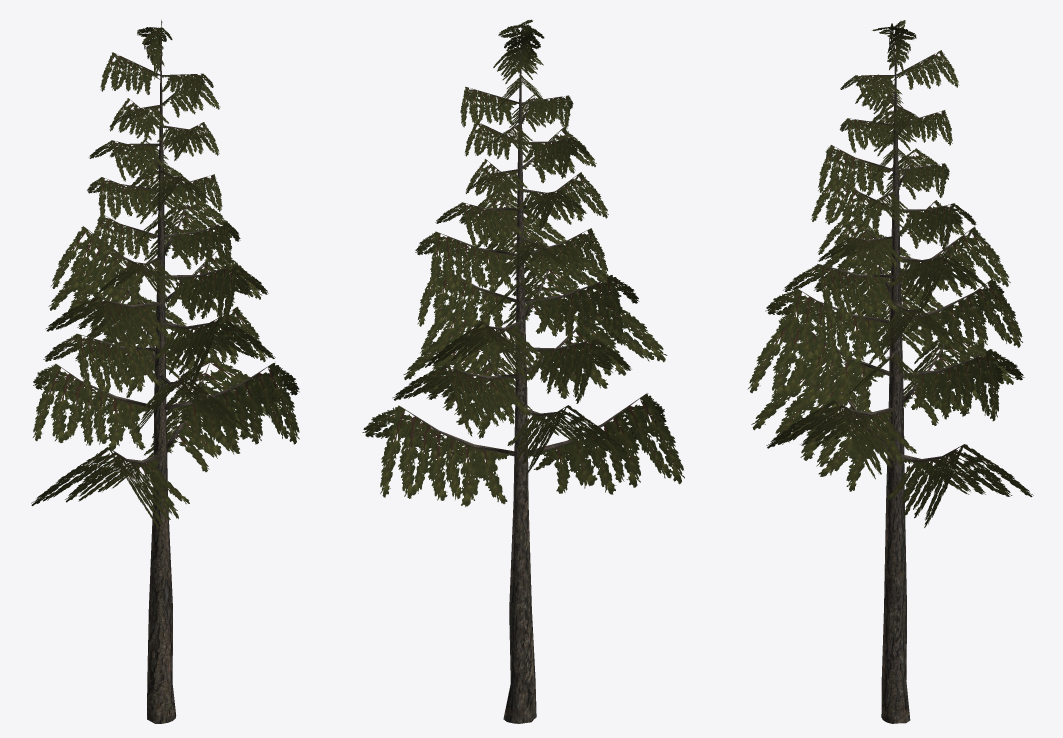
File: conifer1.glb
The picture shows the model from 3 angles, left to right: view 1: azimuth 30°, elevation 25°; view 2: azimuth 150°, elevation 25°; view 3: azimuth 270°, elevation 25°; orthographic projection.
Visible parts, largest first — view 1: Conifer1; view 2: Conifer1; view 3: Conifer1.
Part boxes in pixels (x1,y1,x2,y2): Conifer1: [31, 20, 299, 723]; Conifer1: [362, 19, 684, 723]; Conifer1: [747, 20, 1033, 723].
Bounding box in the file's own units: 9.15 × 19.34 × 8.12.
2 materials, 2 textured.
